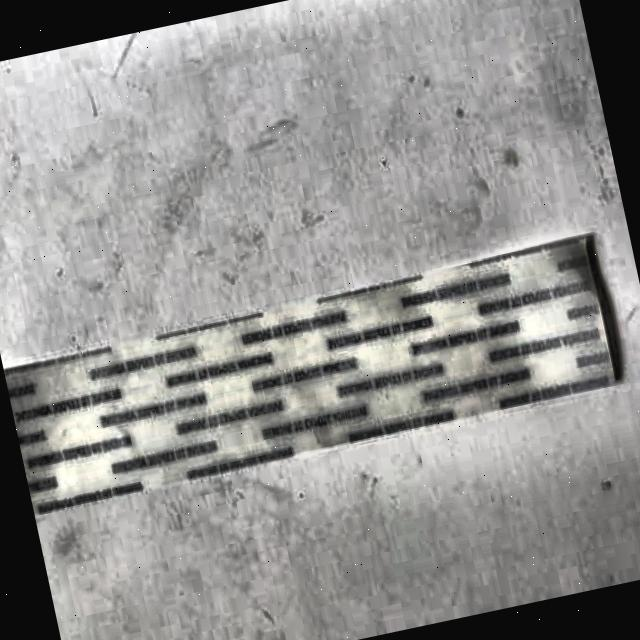paper: (4, 226, 631, 514)
